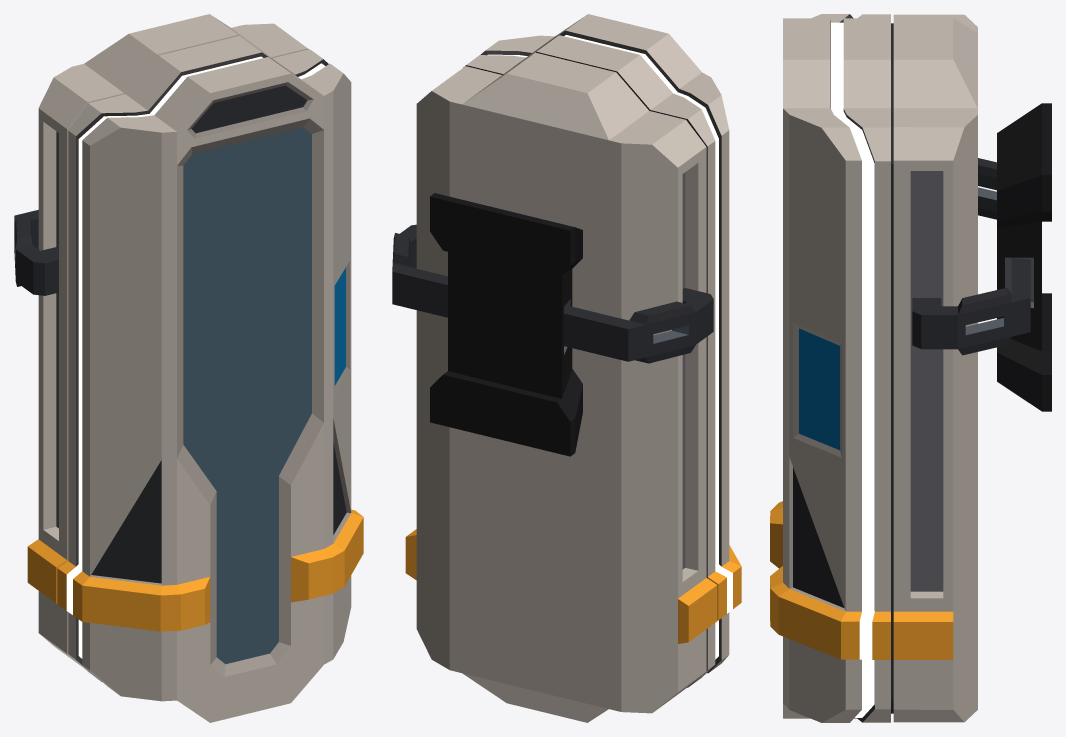
The model's file is SM_Cryochamber.glb.
The picture shows the model from 3 angles, left to right: view 1: azimuth 30°, elevation 25°; view 2: azimuth 150°, elevation 25°; view 3: azimuth 270°, elevation 25°; orthographic projection. The views are drawn at different scales.
Parts seen in each view (by area): view 1: SM_Cryochamber_Lid, SM_Cryochamber_Glass, SM_Cryochamber; view 2: SM_Cryochamber, SM_Cryochamber_Lid; view 3: SM_Cryochamber, SM_Cryochamber_Lid.
Boxes of the visible parts, box(x1,y1,x2,y2) form: SM_Cryochamber_Lid: box(57, 36, 363, 722); SM_Cryochamber_Glass: box(183, 127, 311, 664); SM_Cryochamber: box(14, 14, 308, 667); SM_Cryochamber: box(392, 52, 717, 722); SM_Cryochamber_Lid: box(463, 14, 741, 687); SM_Cryochamber: box(891, 14, 1051, 722); SM_Cryochamber_Lid: box(770, 14, 890, 722).
Size of the model in its own units: 1.19 by 2.38 by 0.9215.
3 materials, 1 textured.
